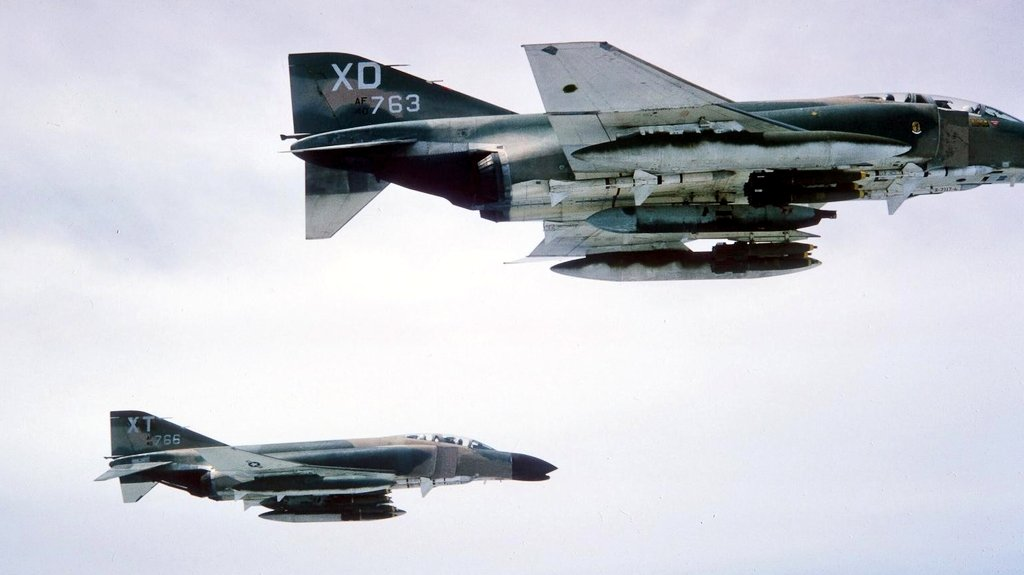F4: (272, 40, 1024, 281), (93, 410, 559, 523)
